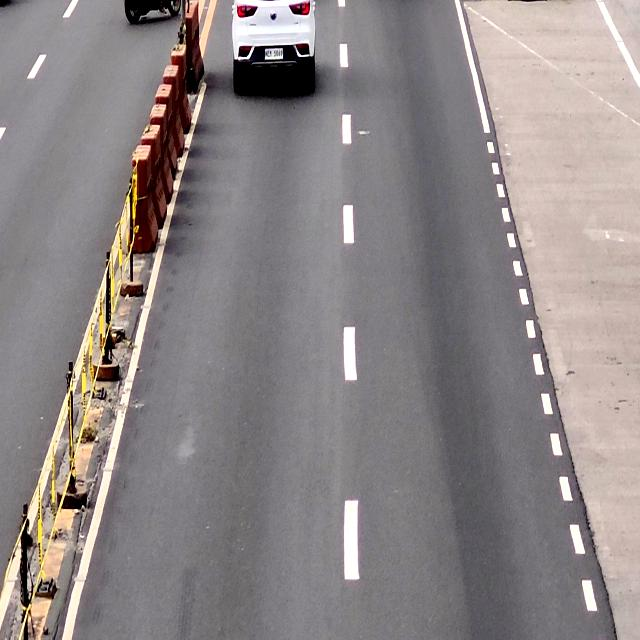Car: (230, 0, 316, 92)
License-Plate: (264, 46, 284, 60)
